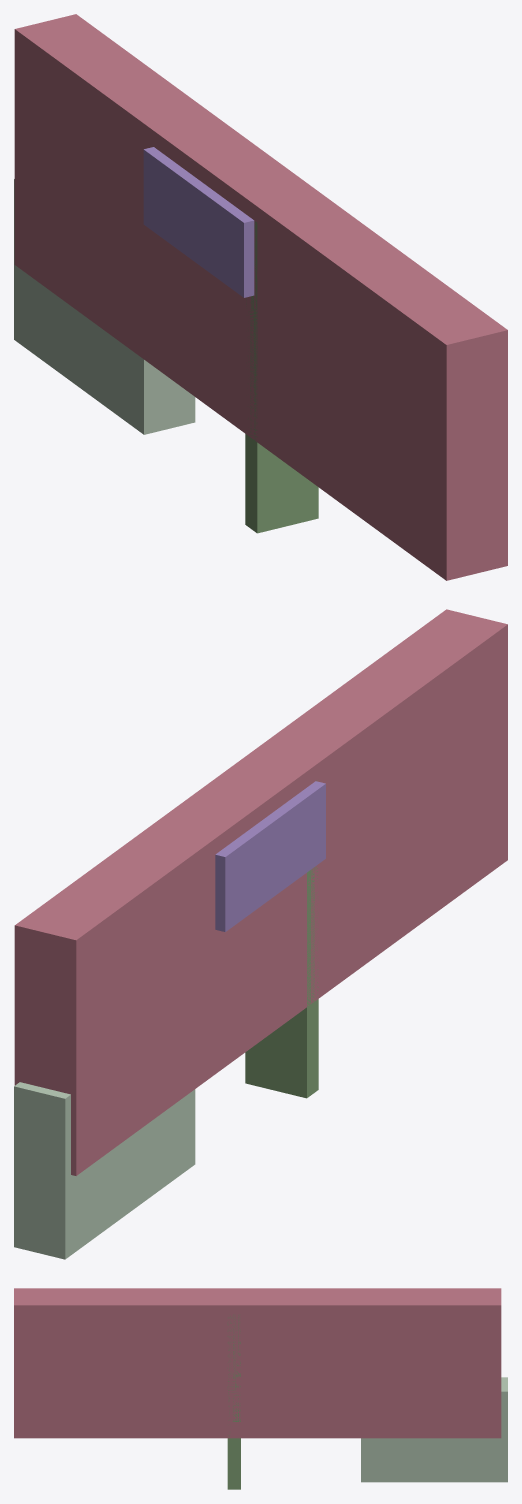
Rendered from 199523_pred.glb.
3 views of the same model, one above another, from view 1: azimuth 30°, elevation 25°; view 2: azimuth 150°, elevation 25°; view 3: azimuth 270°, elevation 25° (orthographic). The views are drawn at different scales.
Visible parts, largest first — view 1: world; view 2: world; view 3: world.
Boxes of the visible parts, x1,y1,x2,y2 form: world: (14, 14, 507, 580); world: (14, 609, 507, 1259); world: (14, 1288, 507, 1489).
Bounding box in the file's own units: 0.7 × 3.05 × 7.4.
